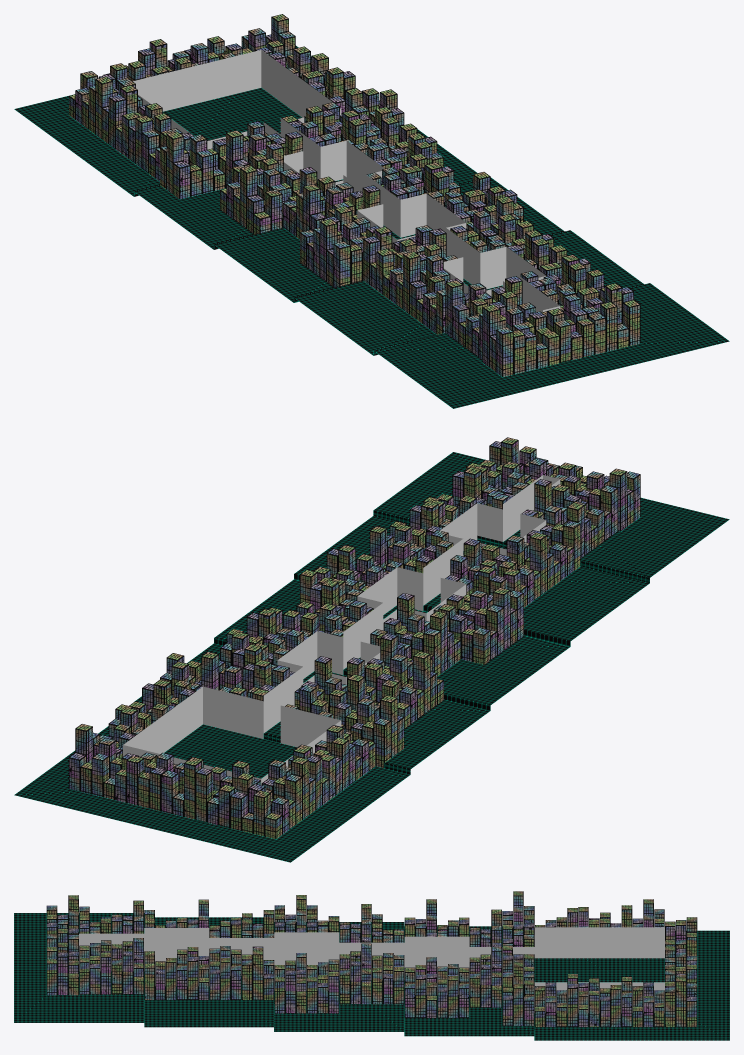
File: O_001_field_01_05.fbx
The picture shows the model from 3 angles, top to bottom: view 1: azimuth 30°, elevation 25°; view 2: azimuth 150°, elevation 25°; view 3: azimuth 270°, elevation 25°; orthographic projection. The views are drawn at different scales.
Visible parts, largest first — view 1: Plane007, floor, play_space004, play_space003, play_space026, play_space024, play_space018, play_space011, play_space016, play_space010, play_space020, play_space008; view 2: Plane007, floor, play_space007, play_space003, play_space006, play_space008, play_space016, play_space024, play_space002, play_space020, play_space010, play_space030 (+3 smaller); view 3: Plane007, floor, play_space005, play_space013, play_space021, play_space029, play_space003, play_space024, play_space031, play_space016, play_space017, play_space025 (+5 smaller).
Boxes of the visible parts, bbox=[...] form: Plane007: bbox=[69, 14, 640, 377]; floor: bbox=[14, 45, 729, 408]; play_space004: bbox=[133, 50, 261, 111]; play_space003: bbox=[261, 50, 340, 117]; play_space026: bbox=[480, 247, 506, 289]; play_space024: bbox=[440, 224, 480, 284]; play_space018: bbox=[400, 193, 426, 237]; play_space011: bbox=[320, 140, 346, 180]; play_space016: bbox=[360, 171, 400, 237]; play_space010: bbox=[346, 141, 384, 187]; play_space020: bbox=[426, 194, 465, 229]; play_space008: bbox=[280, 118, 320, 181]; Plane007: bbox=[68, 437, 640, 839]; floor: bbox=[14, 452, 729, 862]; play_space007: bbox=[203, 686, 263, 738]; play_space003: bbox=[123, 687, 202, 753]; play_space006: bbox=[280, 705, 340, 747]; play_space008: bbox=[263, 667, 303, 732]; play_space016: bbox=[343, 603, 383, 669]; play_space024: bbox=[423, 539, 463, 605]; play_space002: bbox=[503, 475, 542, 541]; play_space020: bbox=[358, 567, 397, 614]; play_space010: bbox=[278, 631, 317, 678]; play_space030: bbox=[477, 503, 502, 541]; Plane007: bbox=[46, 891, 697, 1029]; floor: bbox=[14, 913, 729, 1040]; play_space005: bbox=[534, 927, 664, 958]; play_space013: bbox=[404, 936, 469, 964]; play_space021: bbox=[274, 932, 339, 959]; play_space029: bbox=[144, 928, 209, 955]; play_space003: bbox=[534, 982, 664, 1012]; play_space024: bbox=[209, 945, 274, 975]; play_space031: bbox=[79, 933, 144, 940]; play_space016: bbox=[339, 949, 404, 979]; play_space017: bbox=[339, 942, 404, 949]; play_space025: bbox=[209, 938, 274, 944].
Bounding box in the file's own units: 6299 × 1683 × 17323.
